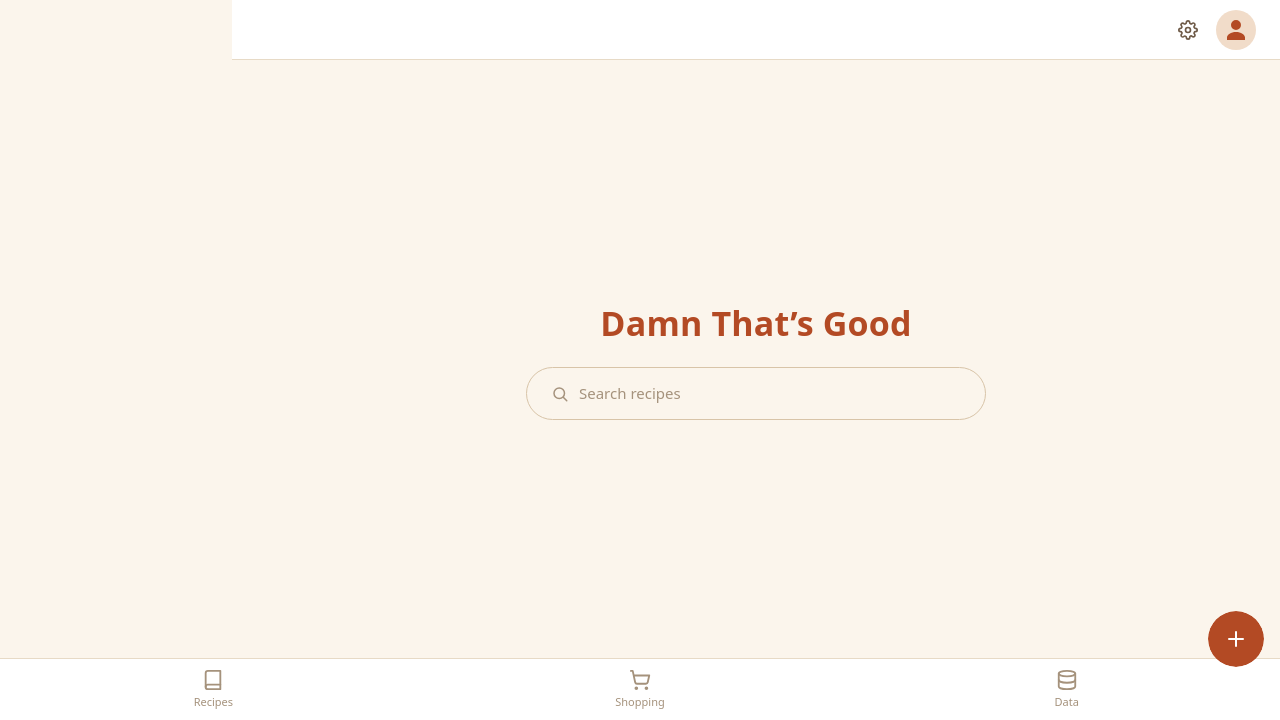
Test case: mobile nav (bottom tab bar, <=640px) › Create FAB opens the same inert popover as desktop, and closes without navigating
Click the button named "create". click: (1236, 639)
box: [1208,611,1264,667]
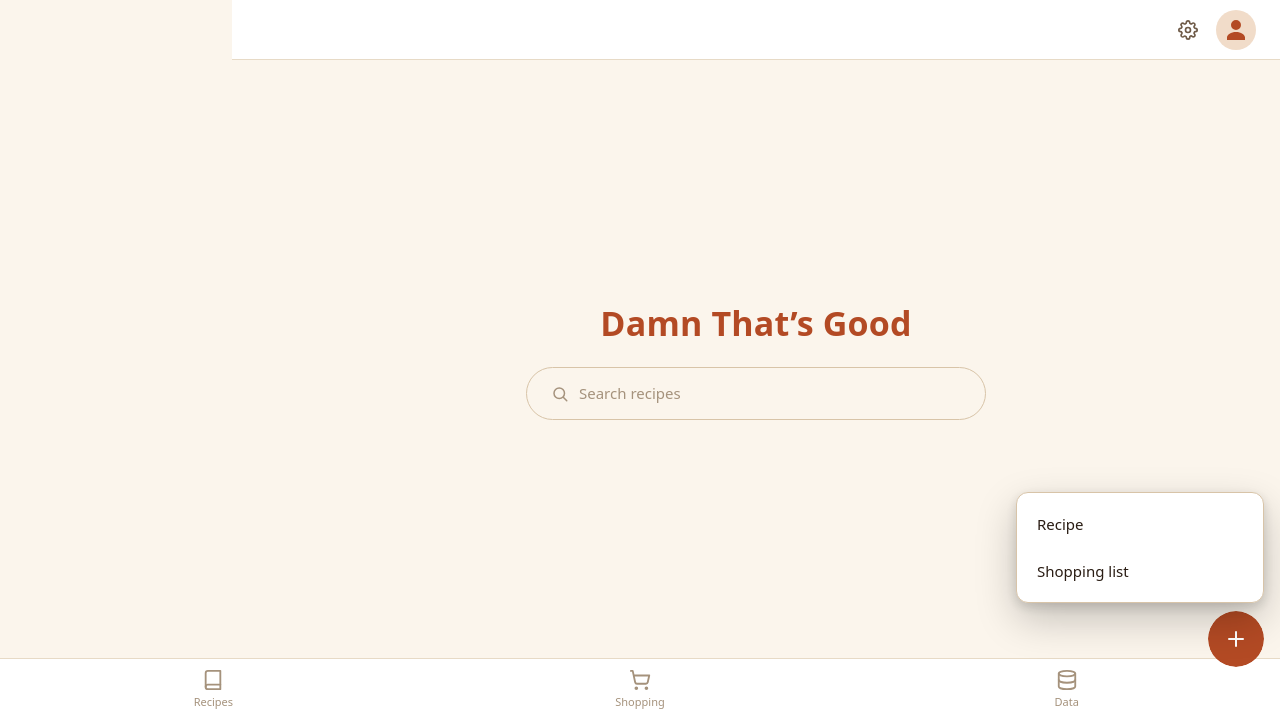
Now the button named "create" is expanded, box [1208,611,1264,667]
Now the element named "create" is shown, box [1016,492,1264,603]
Click the button "Recipe". click: (1140, 524)
box: [1025,501,1255,548]
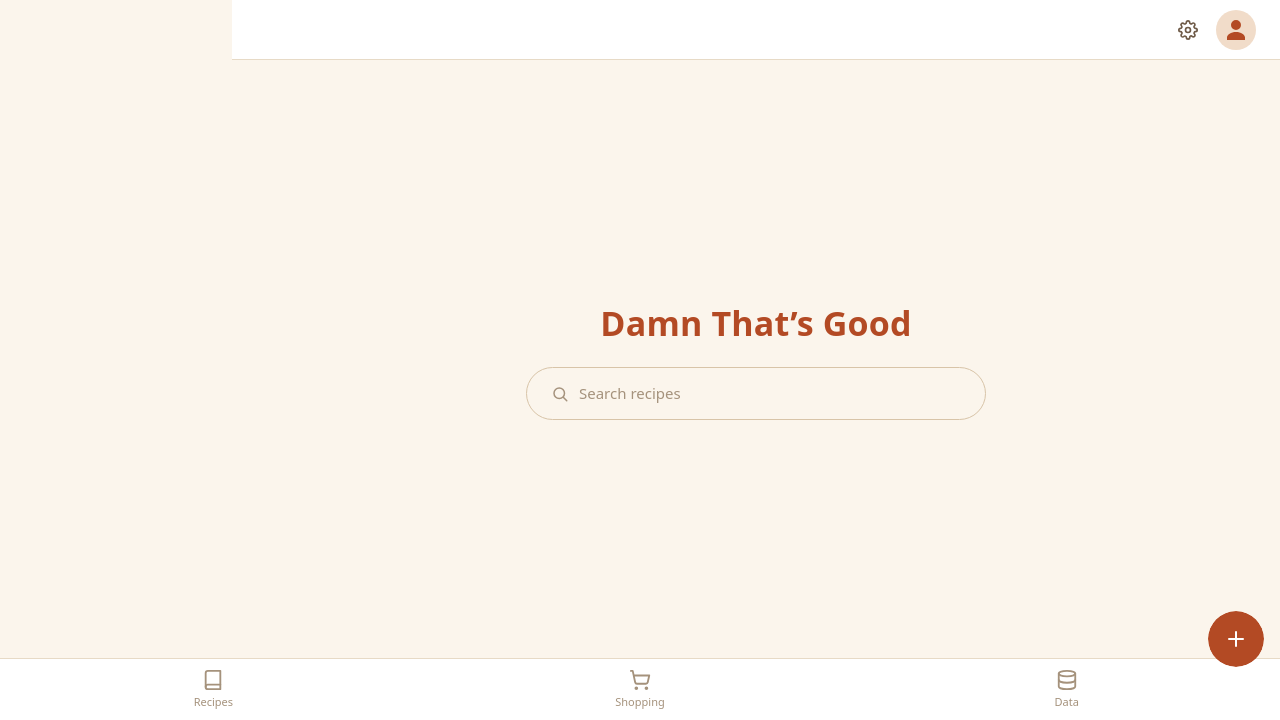
Now the button named "create" is collapsed, box [1208,611,1264,667]
